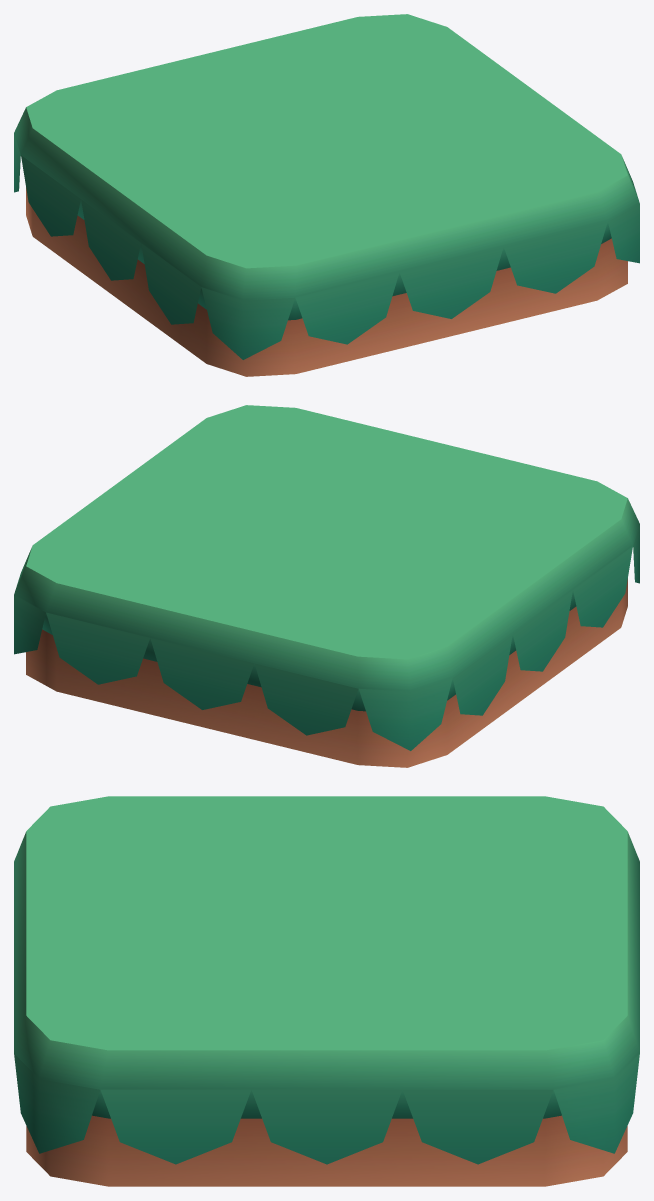
File: kenney-platformer-block-grass-overhang-low-large.glb
3 views of the same model, one above another, from view 1: azimuth 30°, elevation 25°; view 2: azimuth 150°, elevation 25°; view 3: azimuth 270°, elevation 25° (orthographic). The views are drawn at different scales.
Visible parts, largest first — view 1: block-grass-overhang-low-large; view 2: block-grass-overhang-low-large; view 3: block-grass-overhang-low-large.
Part boxes in pixels (left/top/right/bottom): block-grass-overhang-low-large: left=14, top=14, right=639, bottom=376; block-grass-overhang-low-large: left=14, top=405, right=639, bottom=767; block-grass-overhang-low-large: left=14, top=796, right=639, bottom=1186.
Size of the model in its own units: 2.08 by 0.5 by 2.08.
Materials: 1 (1 with a texture image).
